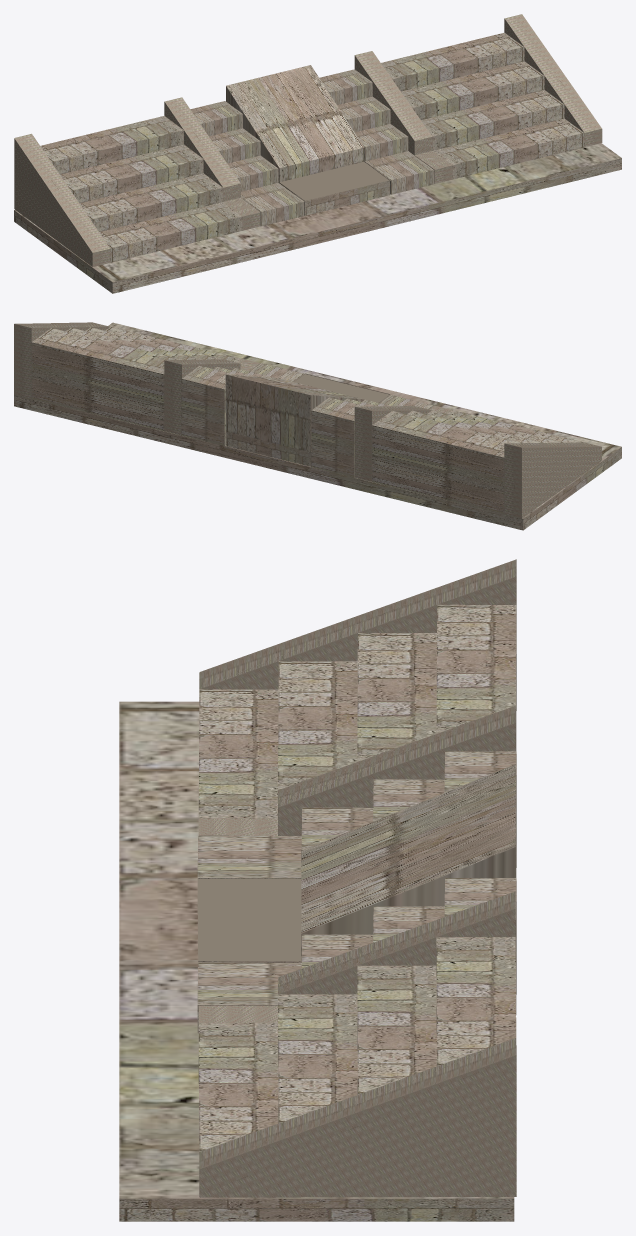
The model's file is stair1.obj.
The picture shows the model from 3 angles, top to bottom: view 1: azimuth 30°, elevation 25°; view 2: azimuth 150°, elevation 25°; view 3: azimuth 270°, elevation 25°; orthographic projection. The views are drawn at different scales.
Visible parts, largest first — view 1: StraightStair001, StraightStair004, Box002, Box003, StraightStair005, StraightStair003; view 2: StraightStair001, StraightStair004, Box002, Box003, StraightStair005, StraightStair003; view 3: StraightStair004, StraightStair001, Box002, Box003, StraightStair003, StraightStair005.
Boxes of the visible parts, bbox=[...] form: StraightStair001: bbox=[14, 97, 260, 266]; StraightStair004: bbox=[354, 14, 602, 183]; Box002: bbox=[14, 143, 621, 293]; Box003: bbox=[226, 65, 390, 215]; StraightStair005: bbox=[319, 69, 434, 194]; StraightStair003: bbox=[190, 101, 304, 226]; StraightStair001: bbox=[354, 405, 601, 518]; StraightStair004: bbox=[14, 322, 260, 435]; Box002: bbox=[14, 322, 621, 530]; Box003: bbox=[225, 373, 390, 466]; StraightStair005: bbox=[181, 363, 303, 445]; StraightStair003: bbox=[311, 395, 434, 477]; StraightStair004: bbox=[198, 891, 516, 1197]; StraightStair001: bbox=[198, 559, 516, 836]; Box002: bbox=[119, 701, 514, 1221]; Box003: bbox=[197, 764, 515, 962]; StraightStair003: bbox=[197, 751, 516, 877]; StraightStair005: bbox=[197, 878, 516, 1033].
Size of the model in its own units: 144 by 22.61 by 48.52.
